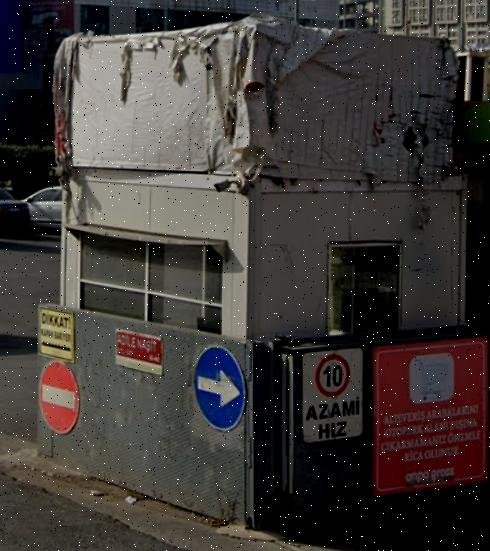turnright: (193, 345, 248, 428)
